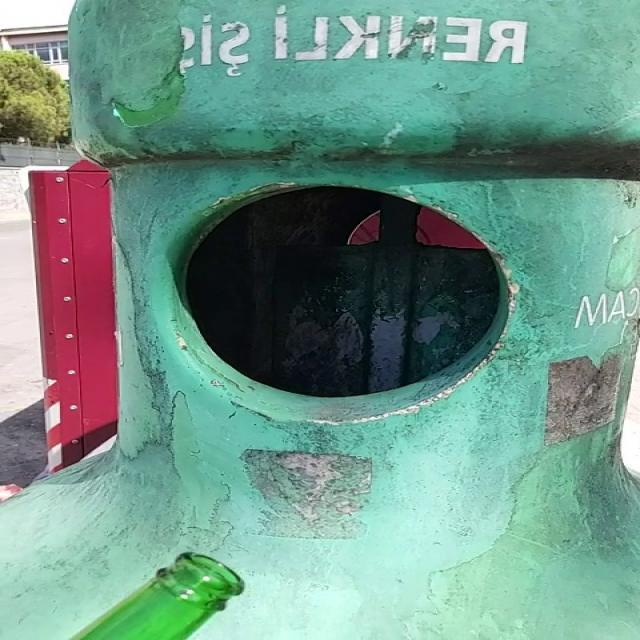Glass: (71, 554, 244, 640)
